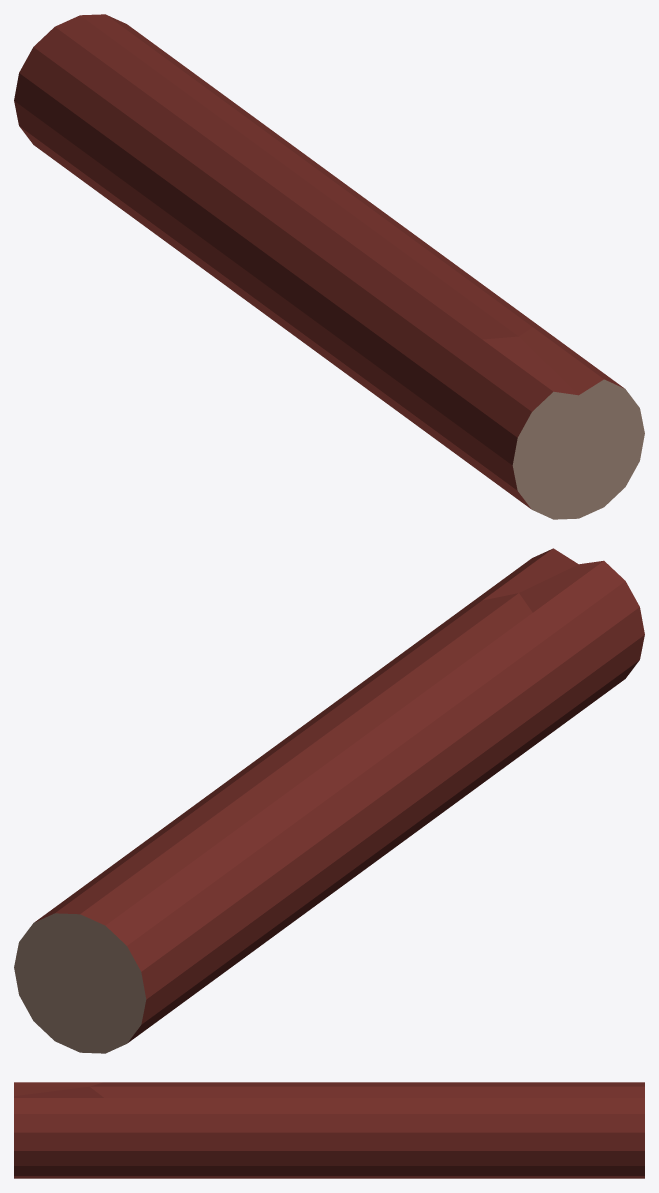
File: log.fbx
3 renders of one model, top to bottom at view 1: azimuth 30°, elevation 25°; view 2: azimuth 150°, elevation 25°; view 3: azimuth 270°, elevation 25°, orthographic. The views are drawn at different scales.
Visible parts, largest first — view 1: Cylinder; view 2: Cylinder; view 3: Cylinder.
Boxes of the visible parts, bbox=[...] form: Cylinder: bbox=[14, 14, 644, 519]; Cylinder: bbox=[14, 548, 644, 1053]; Cylinder: bbox=[14, 1082, 644, 1178].
Size of the model in its own units: 200 by 200 by 1305.
